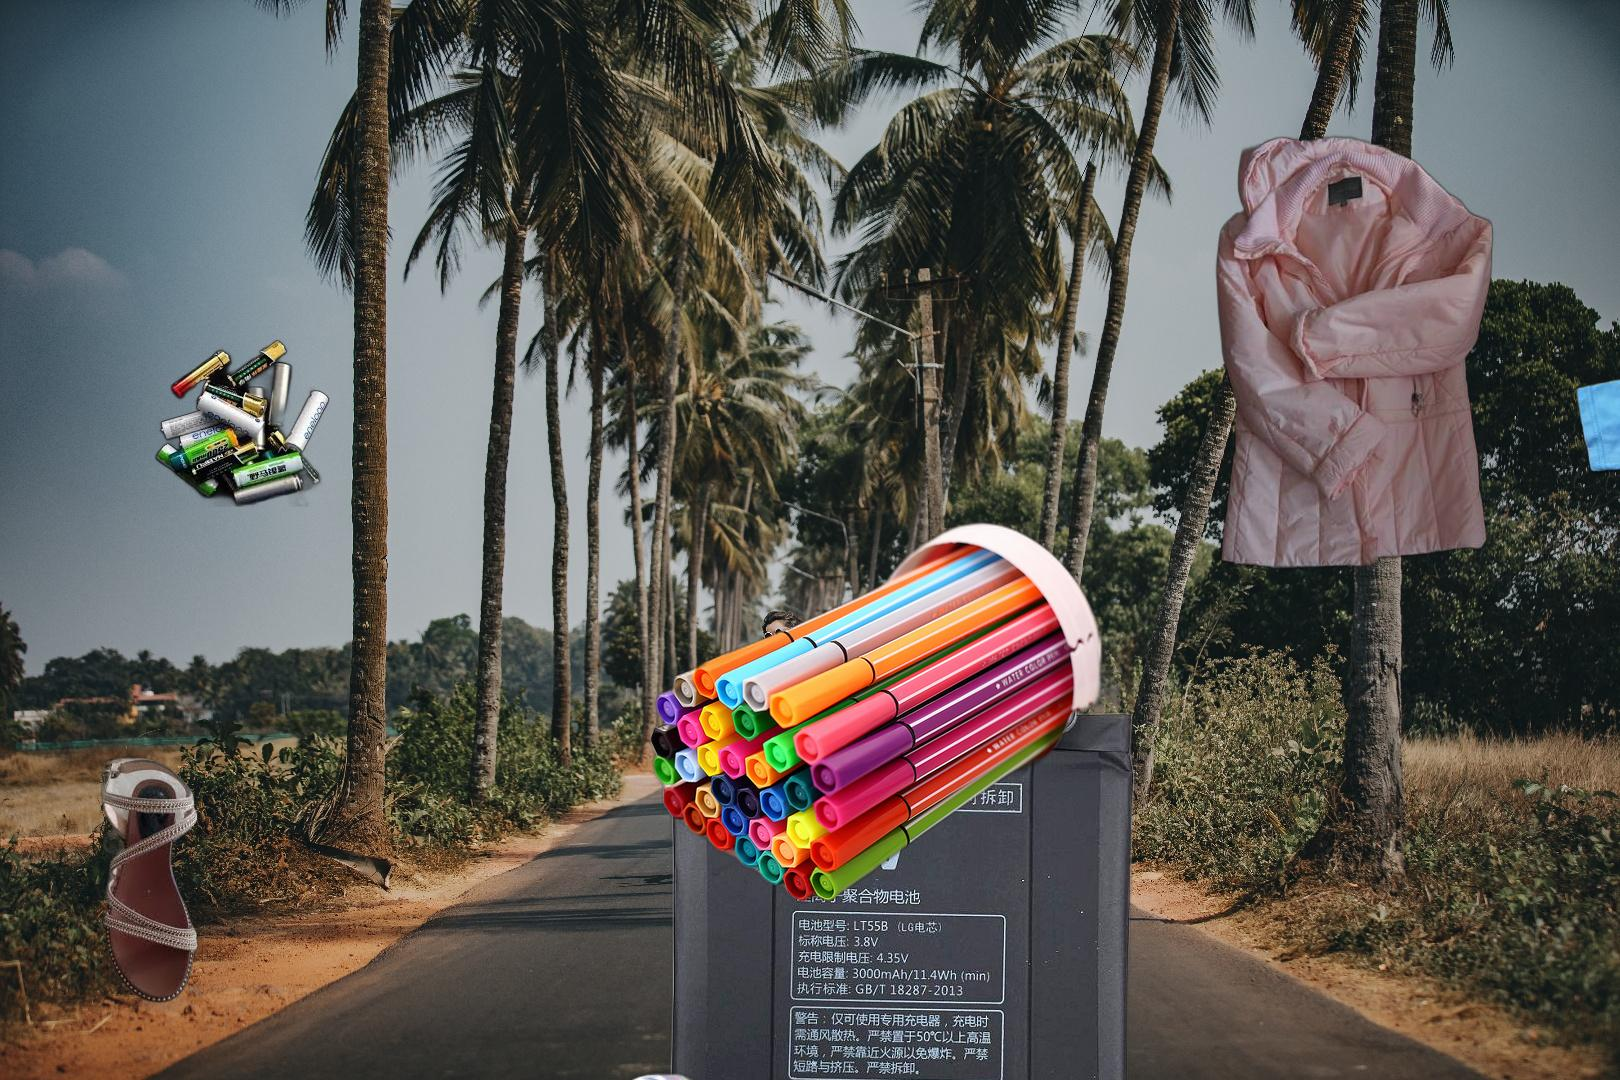battery: (656, 635, 1140, 1080), (153, 339, 391, 507)
clothes: (1213, 130, 1496, 574), (1574, 347, 1620, 676)
metal-cans: (594, 1067, 775, 1080)
penholder: (645, 517, 1107, 908)
shoes: (98, 755, 200, 1005)
